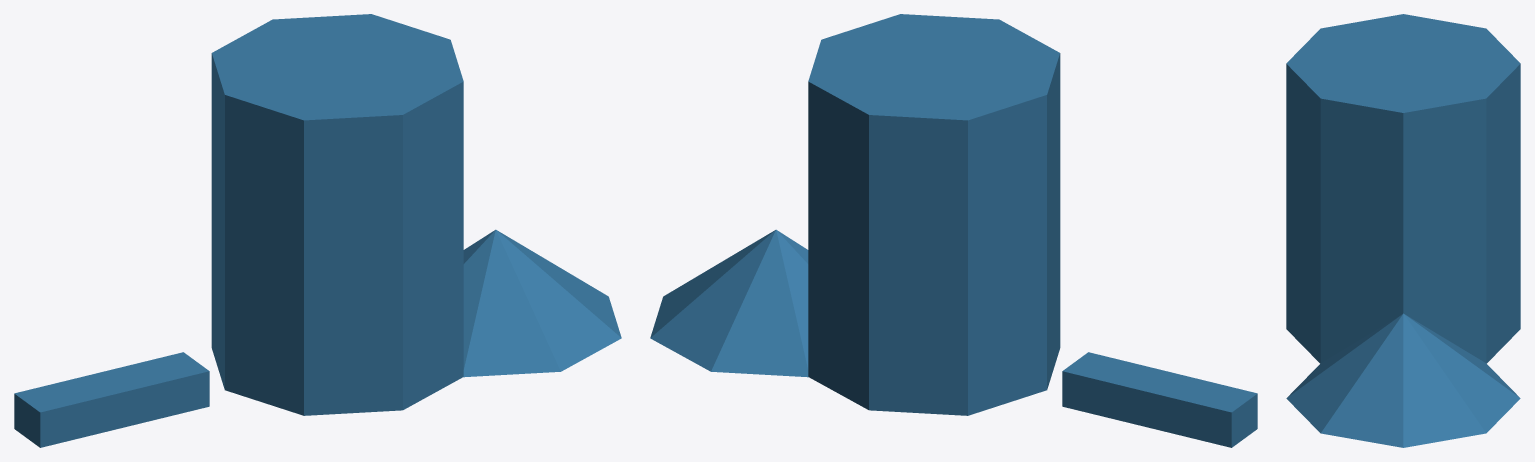
Rendered from fauna.fish.glb.
3 views of the same model, side by side, from view 1: azimuth 30°, elevation 25°; view 2: azimuth 150°, elevation 25°; view 3: azimuth 270°, elevation 25° (orthographic). The views are drawn at different scales.
Parts seen in each view (by area): view 1: fauna.fish; view 2: fauna.fish; view 3: fauna.fish.
Part boxes in pixels (x1,y1,x2,y2): fauna.fish: (14,14,621,447); fauna.fish: (650,14,1257,447); fauna.fish: (1286,14,1520,447).
Size of the model in its own units: 0.515 by 0.25 by 0.2.
